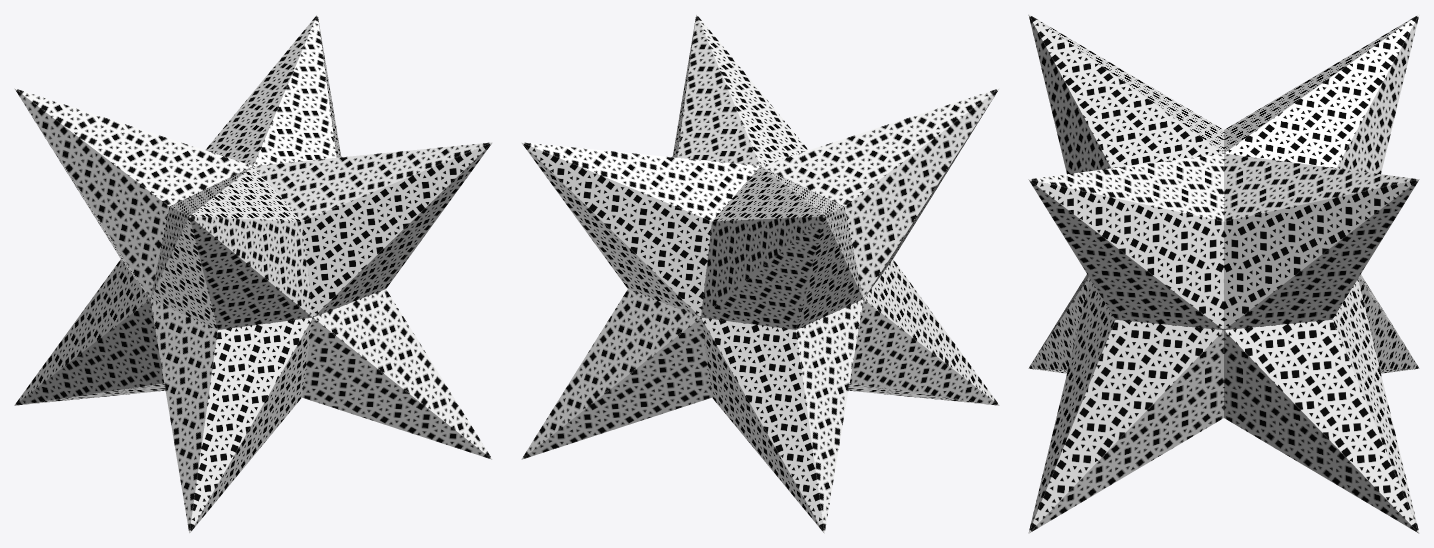
Rendered from great-disdyakis-dodecahedron.gltf.
The picture shows the model from 3 angles, left to right: view 1: azimuth 30°, elevation 25°; view 2: azimuth 150°, elevation 25°; view 3: azimuth 270°, elevation 25°; orthographic projection. The views are drawn at different scales.
Visible parts, largest first — view 1: Great Disdyakisdodecahedron (Dual of 8/3.4.6), WD93, p92; view 2: Great Disdyakisdodecahedron (Dual of 8/3.4.6), WD93, p92; view 3: Great Disdyakisdodecahedron (Dual of 8/3.4.6), WD93, p92.
Part boxes in pixels (x1,y1,x2,y2): Great Disdyakisdodecahedron (Dual of 8/3.4.6), WD93, p92: [14, 14, 492, 533]; Great Disdyakisdodecahedron (Dual of 8/3.4.6), WD93, p92: [521, 14, 999, 533]; Great Disdyakisdodecahedron (Dual of 8/3.4.6), WD93, p92: [1028, 14, 1419, 533].
Bounding box in the file's own units: 36.89 × 36.89 × 36.89.
1 material, 1 textured.
